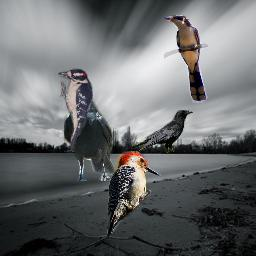Crow: (64, 89, 116, 181), (131, 110, 193, 153)
Cuckoo: (164, 15, 208, 103)
Woodpecker: (107, 151, 162, 237), (58, 67, 94, 149)
